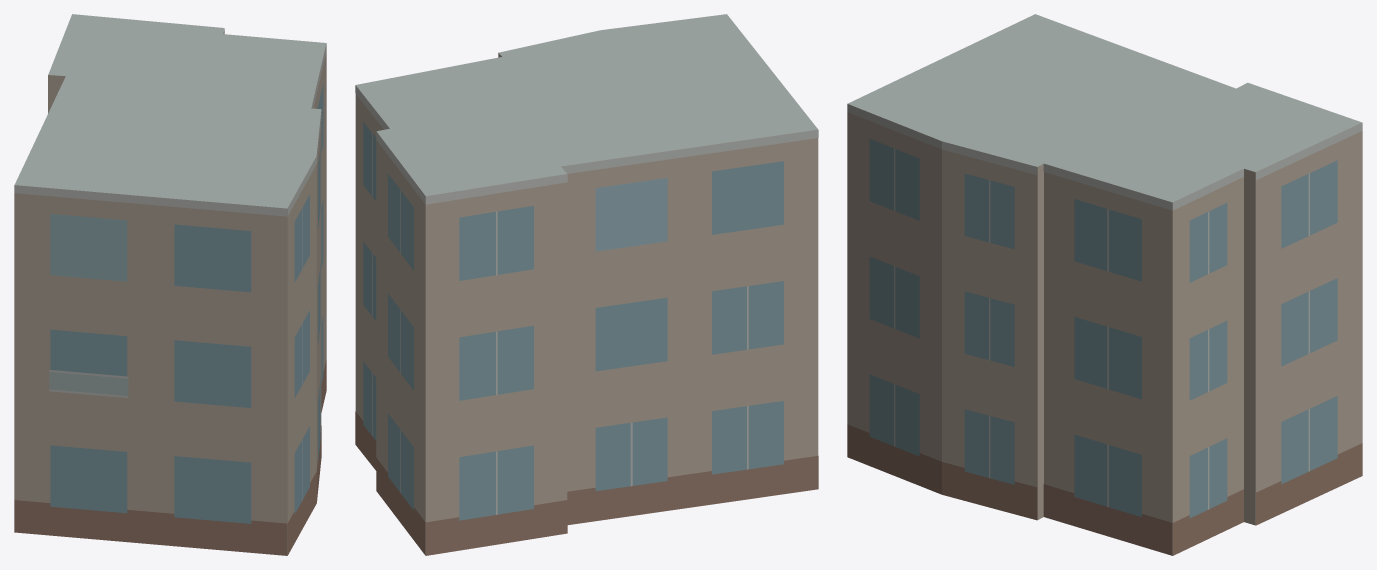
The model's file is survey-upis-32955990.glb.
The picture shows the model from 3 angles, left to right: view 1: azimuth 30°, elevation 25°; view 2: azimuth 150°, elevation 25°; view 3: azimuth 270°, elevation 25°; orthographic projection. The views are drawn at different scales.
Visible parts, largest first — view 1: survey-upis-32955990.tmp; view 2: survey-upis-32955990.tmp; view 3: survey-upis-32955990.tmp.
Part boxes in pixels (x1,y1,x2,y2): survey-upis-32955990.tmp: (14, 14, 326, 555); survey-upis-32955990.tmp: (355, 14, 818, 555); survey-upis-32955990.tmp: (847, 14, 1362, 555).
Bounding box in the file's own units: 12.02 × 10.5 × 13.88.
